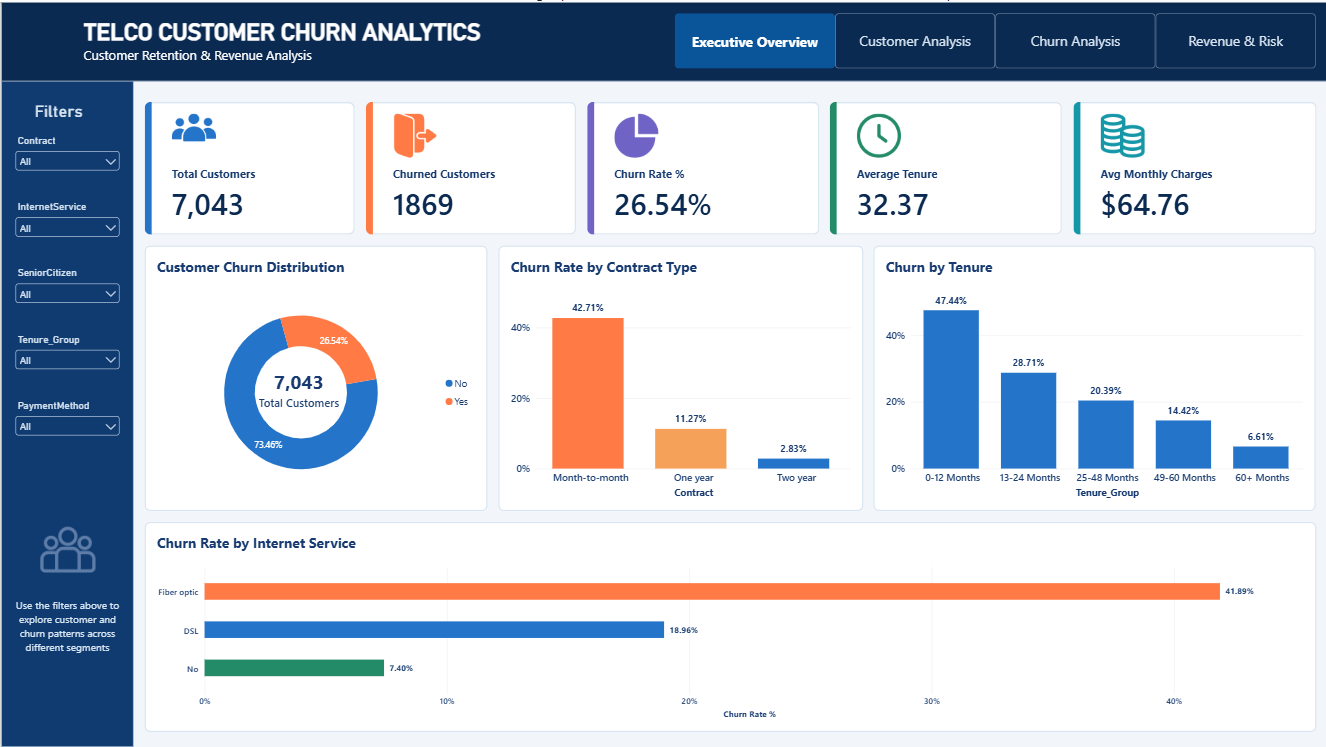

The page's visual inventory and layout, read from the dashboard file:
{"tool":"powerbi","page":{"name":"Executive Overview","canvas":[1920,1080],"ordinal":0},"visuals":[{"type":"shape","box":[0,112,192,968],"z":0},{"type":"shape","box":[0,0,1920,115],"z":1000},{"type":"textbox","title":"TELCO CUSTOMER CHURN ANALYTICS","box":[120,24,576,72],"z":2000},{"type":"pageNavigator","box":[976,16,928,80],"z":3000},{"type":"clusteredBarChart","title":"Churn Rate by Internet Service","fields":{"Category":["Telco_Churn.InternetService"],"Y":["Measure.Churn Rate %"]},"box":[208,752,1696,304],"z":4000},{"type":"clusteredColumnChart","title":"Churn by Tenure","fields":{"Category":["Telco_Churn.Tenure_Group"],"Y":["Measure.Churn Rate %"]},"box":[1264,352,640,384],"z":5000},{"type":"clusteredColumnChart","title":"Churn Rate by Contract Type","fields":{"Category":["Telco_Churn.Contract"],"Y":["Measure.Churn Rate %"]},"box":[720,352,528,384],"z":6000},{"type":"donutChart","title":"Customer Churn Distribution","fields":{"Category":["Telco_Churn.Churn"],"Y":["Measure.Total Customers"]},"box":[208,352,496,384],"z":7000},{"type":"slicer","fields":{"Values":["Telco_Churn.Contract"]},"box":[16,192,160,64],"z":8000},{"type":"slicer","fields":{"Values":["Telco_Churn.PaymentMethod"]},"box":[16,576,160,80],"z":9000},{"type":"slicer","fields":{"Values":["Telco_Churn.InternetService"]},"box":[16,288,160,64],"z":10000},{"type":"slicer","fields":{"Values":["Telco_Churn.SeniorCitizen"]},"box":[16,384,160,64],"z":11000},{"type":"slicer","fields":{"Values":["Telco_Churn.Tenure_Group"]},"box":[16,480,160,64],"z":12000},{"type":"textbox","box":[16,864,160,96],"z":13000},{"type":"image","box":[48,752,96,80],"z":14000},{"type":"textbox","title":"Filters","box":[48,144,96,32],"z":15000},{"type":"cardVisual","fields":{"Data":["Measure.Total Customers"]},"box":[208,144,304,192],"z":16000},{"type":"cardVisual","fields":{"Data":["Measure.Churn Rate %"]},"box":[848,144,336,192],"z":17000},{"type":"cardVisual","fields":{"Data":["Measure.Average Tenure"]},"box":[1200,144,336,192],"z":18000},{"type":"cardVisual","fields":{"Data":["Measure.Average Monthly Charges"]},"box":[1552,144,352,192],"z":19000},{"type":"cardVisual","fields":{"Data":["Measure.Churned Customers"]},"box":[528,144,304,192],"z":20000},{"type":"cardVisual","fields":{"Data":["Measure.Total Customers"]},"box":[376,538,128,64],"z":21000}]}

Visuals, with their boxes in screenshot pixels (x1, y1, x2, y2), scaled from the page's 1920x1080 canvas onto the 1326x747 screenshot:
shape: (0,77,133,746)
shape: (0,0,1325,80)
"TELCO CUSTOMER CHURN ANALYTICS" textbox: (83,17,481,66)
pageNavigator: (674,11,1315,66)
"Churn Rate by Internet Service" clusteredBarChart: (144,520,1315,730)
"Churn by Tenure" clusteredColumnChart: (873,243,1315,509)
"Churn Rate by Contract Type" clusteredColumnChart: (497,243,862,509)
"Customer Churn Distribution" donutChart: (144,243,486,509)
slicer - Telco_Churn.Contract: (11,133,122,177)
slicer - Telco_Churn.PaymentMethod: (11,398,122,454)
slicer - Telco_Churn.InternetService: (11,199,122,243)
slicer - Telco_Churn.SeniorCitizen: (11,266,122,310)
slicer - Telco_Churn.Tenure_Group: (11,332,122,376)
textbox: (11,598,122,664)
image: (33,520,99,575)
"Filters" textbox: (33,100,99,122)
cardVisual - Measure.Total Customers: (144,100,354,232)
cardVisual - Measure.Churn Rate %: (586,100,818,232)
cardVisual - Measure.Average Tenure: (829,100,1061,232)
cardVisual - Measure.Average Monthly Charges: (1072,100,1315,232)
cardVisual - Measure.Churned Customers: (365,100,575,232)
cardVisual - Measure.Total Customers: (260,372,348,416)
